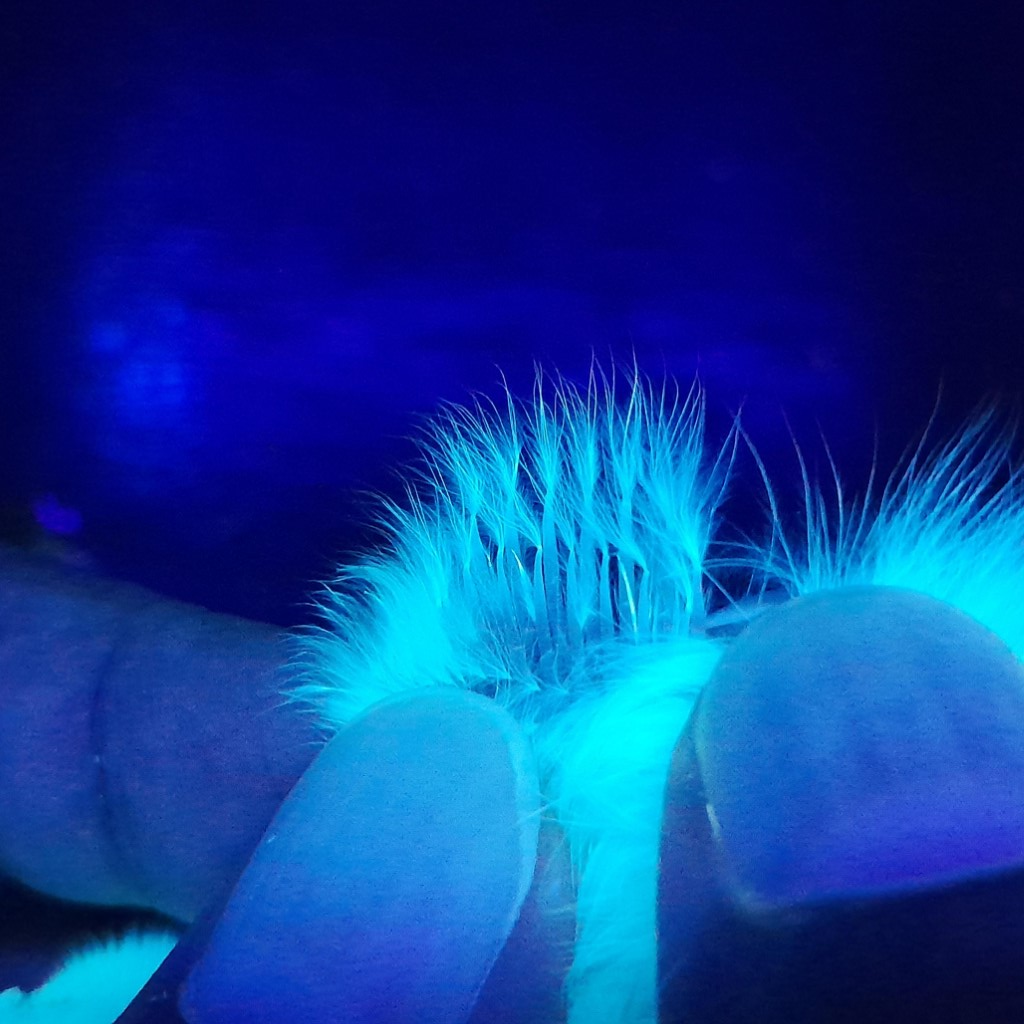female: (442, 480, 714, 751)
